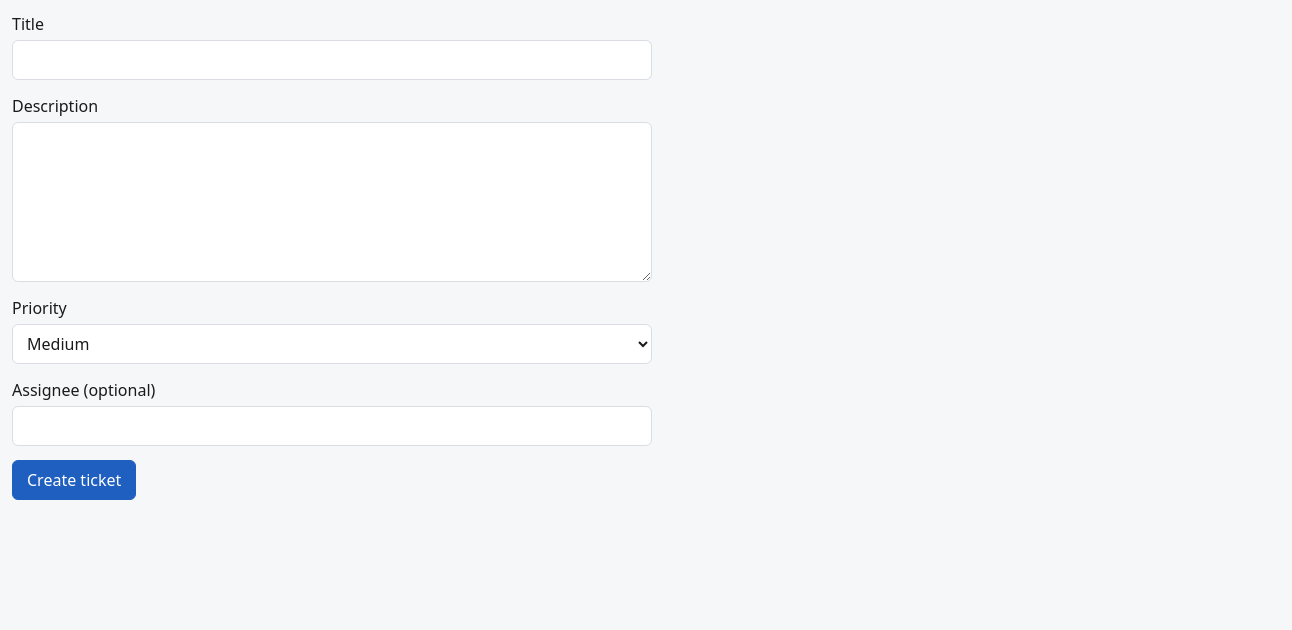
Test: CreateTicketForm (REQ-1, TS-FE-02) › shows each server validation error next to its field
Type "t" into the field labelled "Title".
click(332, 60); type("t")  # box [12, 40, 652, 80]
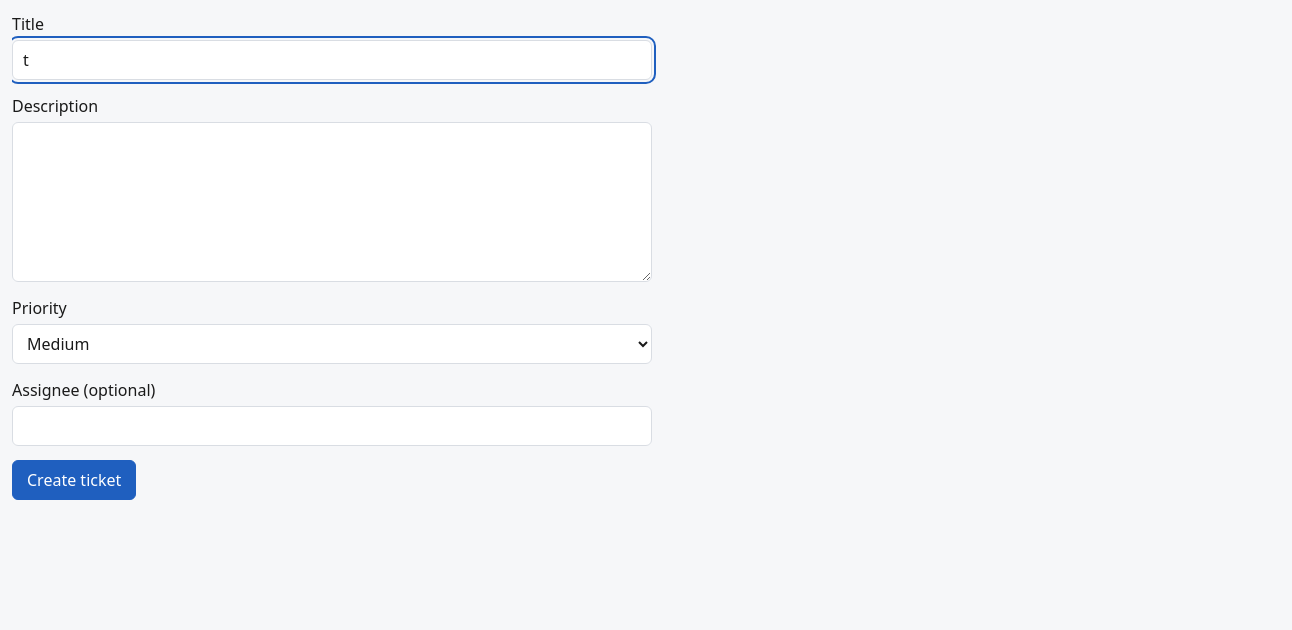
Type "d" into the text box labelled "Description".
click(332, 202); type("d")  # box [12, 122, 652, 282]
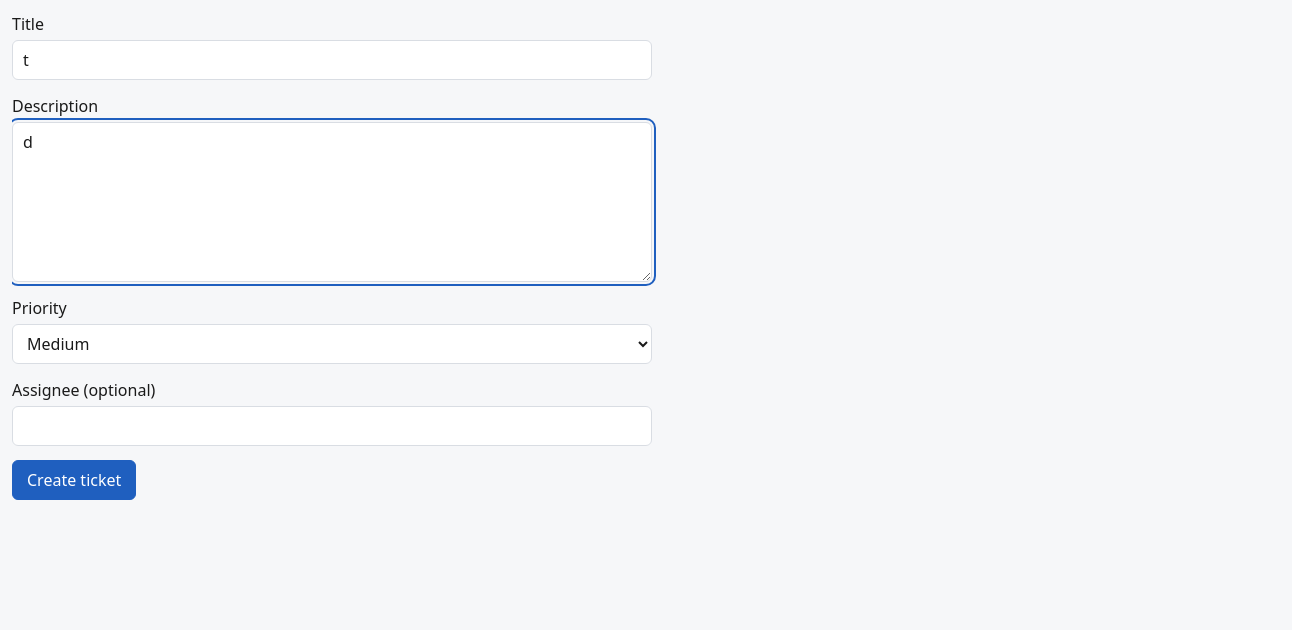
Click the button "Create ticket".
click(74, 480)  # box [12, 460, 136, 500]
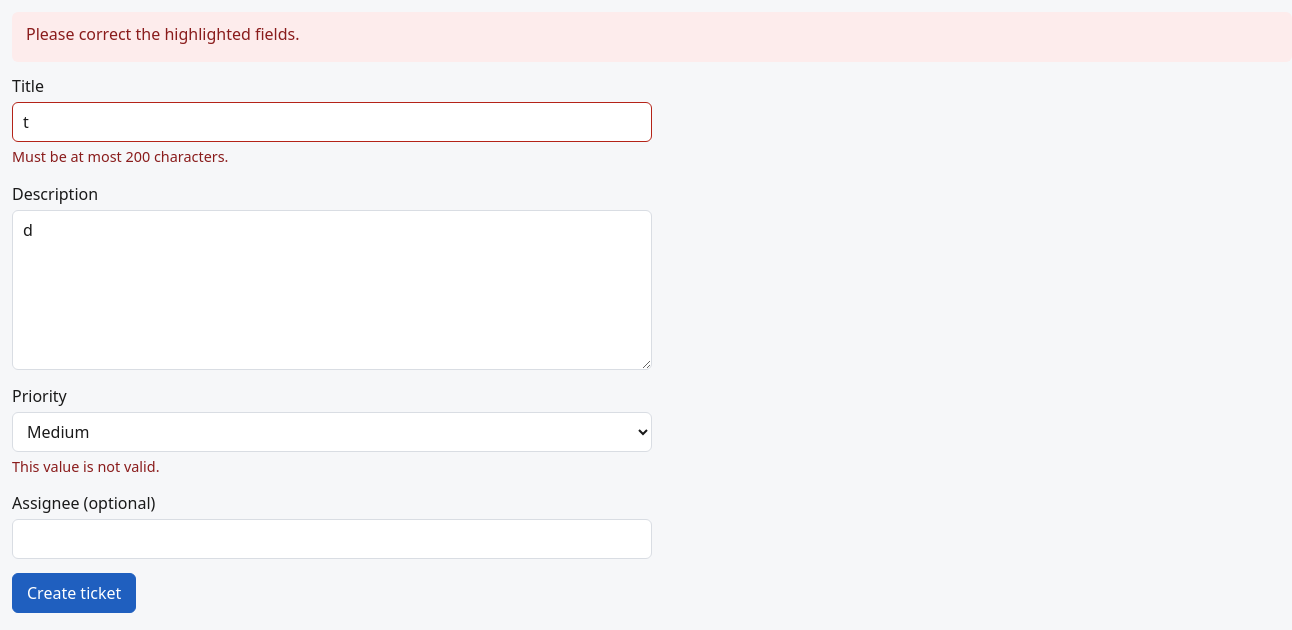
Expected: the message reads "Please correct the highlighted fields.", [26, 23, 300, 45]
Expected: the text "Must be at most 200 characters." is shown, [12, 147, 228, 166]
Expected: the text "This value is not valid." is shown, [12, 457, 160, 476]
